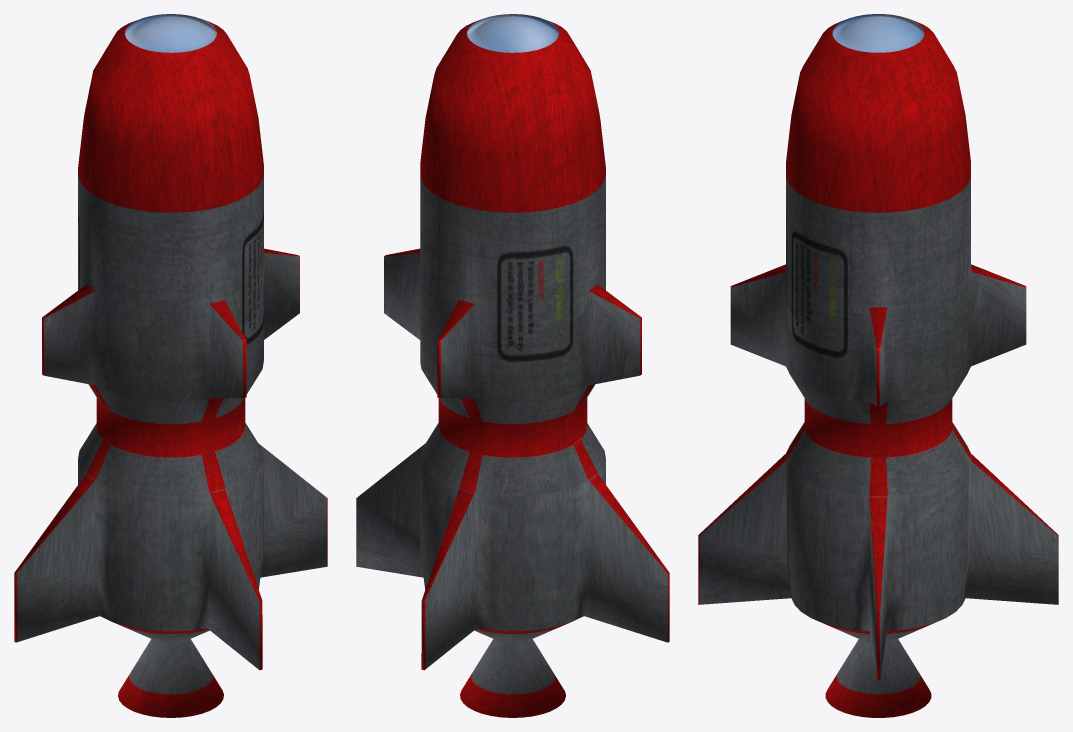
Rendered from missile01.fbx.
3 renders of one model, left to right at view 1: azimuth 30°, elevation 25°; view 2: azimuth 150°, elevation 25°; view 3: azimuth 270°, elevation 25°, orthographic.
Parts seen in each view (by area): view 1: missile_body, glass_lens; view 2: missile_body, glass_lens; view 3: missile_body, glass_lens.
Boxes of the visible parts, x1,y1,x2,y2 form: missile_body: [14, 19, 327, 717]; glass_lens: [125, 14, 216, 52]; missile_body: [356, 20, 669, 717]; glass_lens: [467, 14, 558, 52]; missile_body: [698, 20, 1058, 717]; glass_lens: [832, 14, 924, 52].
Bounding box in the file's own units: 3.88 × 8 × 3.88.
